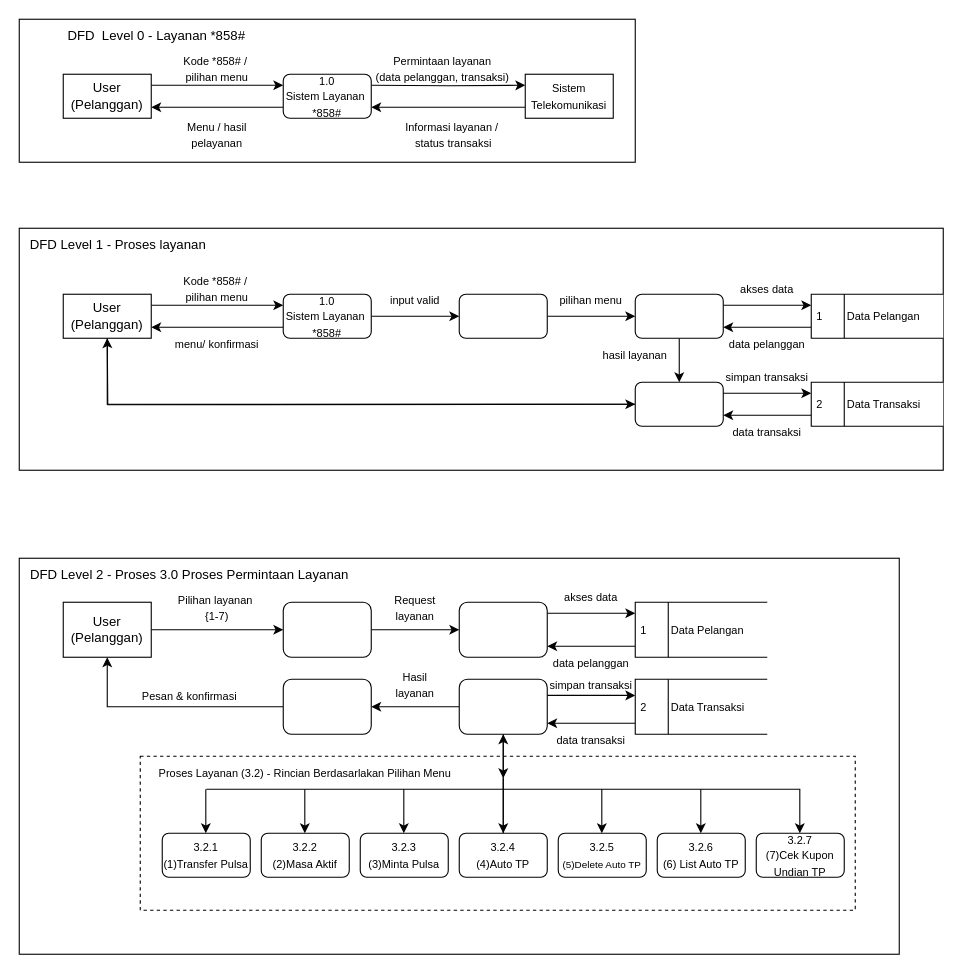
Some shapes in this 963 by 974 pixel diagram are drawn without their labels. Here are the shapes that lost their labels. From the top down, the centre of each, then its label:
point (502, 315): 2.0 Tampilkan Menu Layanan
point (678, 315): 3.0 Proses permintaan layanan
point (678, 403): 4.0 Kirim hasil ke User
point (326, 629): 3.1 Validasi pilihan & Cek Saldo
point (502, 629): 3.2 Proses Layanan (Berdasarkan Pilihan)
point (326, 706): 3.4 Kirim ke user
point (502, 706): 3.3 Buat Detail transaksi
